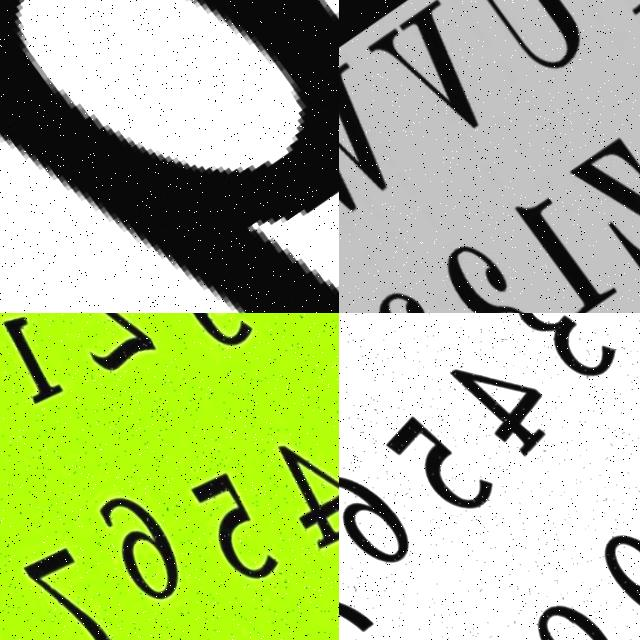0: (486, 562, 640, 640)
1: (477, 170, 621, 313), (0, 313, 92, 424)
2: (414, 218, 555, 313)
3: (474, 313, 640, 417), (350, 273, 486, 313)
4: (403, 313, 589, 487), (224, 396, 339, 575)
5: (341, 373, 523, 556), (139, 438, 313, 614)
6: (45, 452, 220, 632), (339, 419, 443, 605)
7: (0, 507, 149, 640), (339, 498, 398, 640)
8: (596, 403, 640, 595)
9: (548, 485, 640, 640)
Q: (0, 0, 339, 313)
